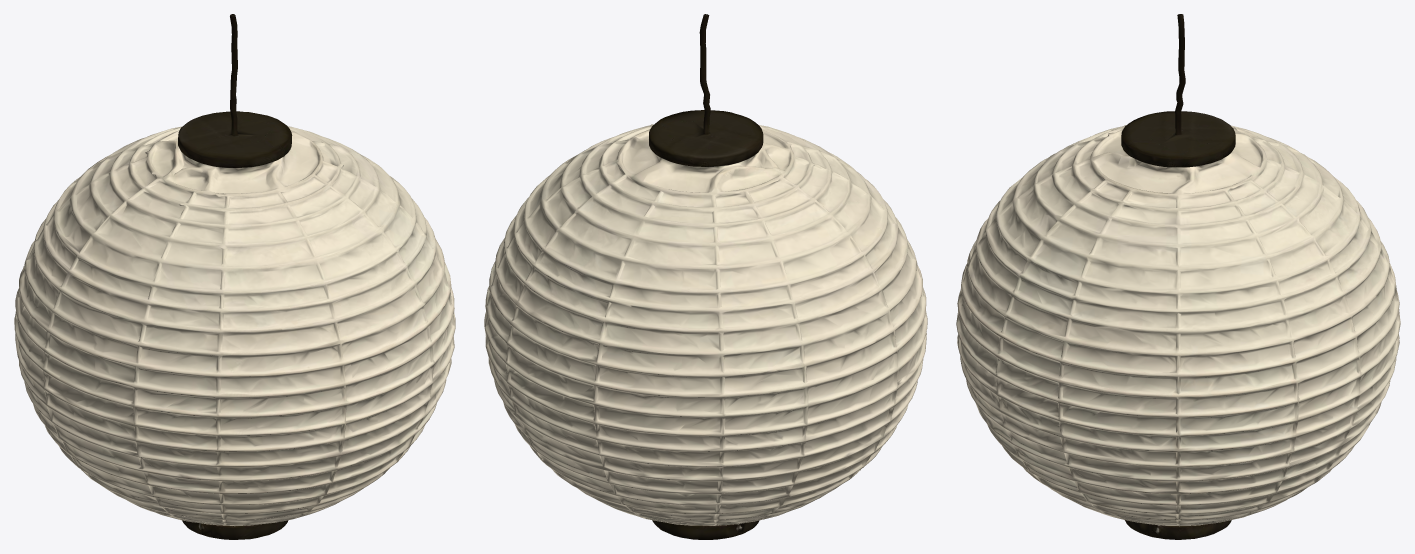
Rendered from pendant.glb.
3 views of the same model, side by side, from view 1: azimuth 30°, elevation 25°; view 2: azimuth 150°, elevation 25°; view 3: azimuth 270°, elevation 25° (orthographic).
Parts seen in each view (by area): view 1: tripo_node_386b4446-93cb-443f-b88b-8b16e510a202; view 2: tripo_node_386b4446-93cb-443f-b88b-8b16e510a202; view 3: tripo_node_386b4446-93cb-443f-b88b-8b16e510a202.
Boxes of the visible parts, <box> form: tripo_node_386b4446-93cb-443f-b88b-8b16e510a202: <box>14,14,455,539</box>; tripo_node_386b4446-93cb-443f-b88b-8b16e510a202: <box>484,14,927,539</box>; tripo_node_386b4446-93cb-443f-b88b-8b16e510a202: <box>956,14,1400,539</box>.
Size of the model in its own units: 0.7846 by 0.9801 by 0.7857.
1 material, 1 textured.
